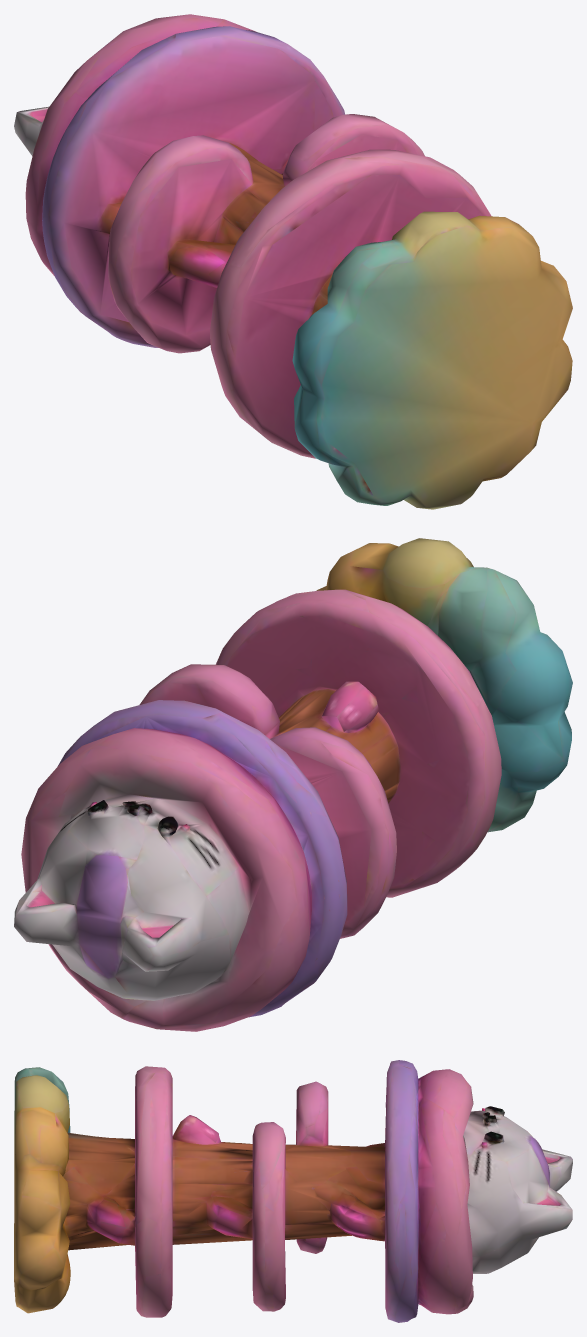
3 renders of one model, top to bottom at view 1: azimuth 30°, elevation 25°; view 2: azimuth 150°, elevation 25°; view 3: azimuth 270°, elevation 25°, orthographic. The views are drawn at different scales.
Visible parts, largest first — view 1: material; view 2: material; view 3: material.
Part boxes in pixels (x1=…): material: x1=14, y1=14, x2=572, y2=509; material: x1=14, y1=538, x2=572, y2=1031; material: x1=14, y1=1060, x2=572, y2=1322.
Size of the model in its own units: 0.4838 by 0.4688 by 1.
1 material, 1 textured.
